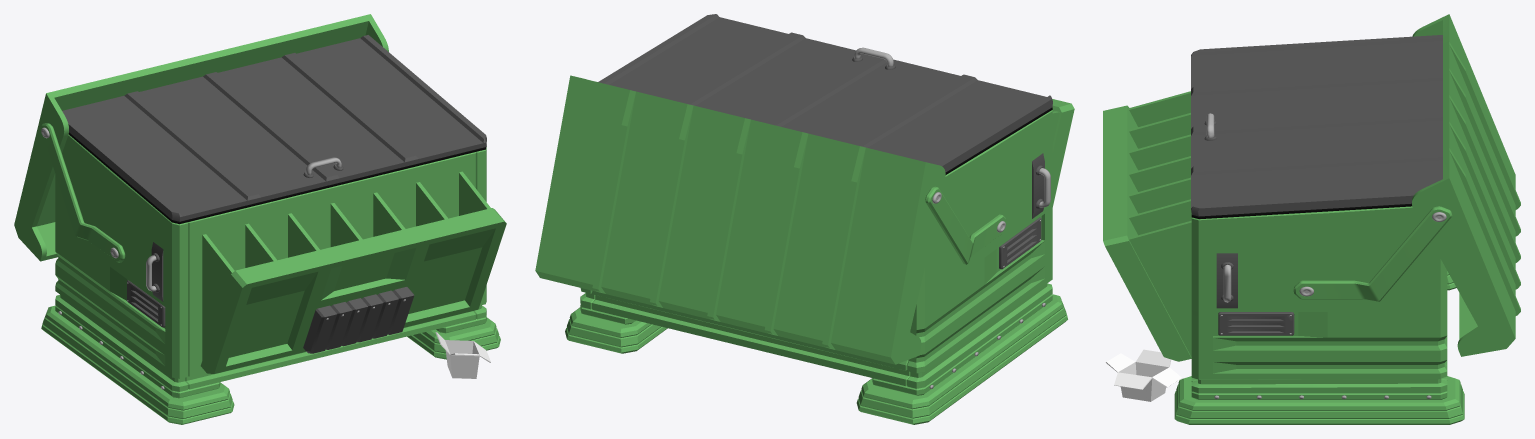
Rendered from shop 4.fbx.
The picture shows the model from 3 angles, left to right: view 1: azimuth 30°, elevation 25°; view 2: azimuth 150°, elevation 25°; view 3: azimuth 270°, elevation 25°; orthographic projection. The views are drawn at different scales.
Parts seen in each view (by area): view 1: Desirefx.me_CyberProp_Dumpster_PaintGreen, Desirefx.me_CyberProp_Dumpster_PaintBlack.002, Desirefx.me_CyberProp_Dumpster_PaintBlack, Desirefx.me_CyberProp_Dumpster_PaperWhite, Desirefx.me_CyberProp_Dumpster_Rubber, Desirefx.me_CyberProp_Dumpster_SteelRaw; view 2: Desirefx.me_CyberProp_Dumpster_PaintGreen, Desirefx.me_CyberProp_Dumpster_PaintBlack.002, Desirefx.me_CyberProp_Dumpster_PaintBlack, Desirefx.me_CyberProp_Dumpster_SteelRaw; view 3: Desirefx.me_CyberProp_Dumpster_PaintGreen, Desirefx.me_CyberProp_Dumpster_PaintBlack.002, Desirefx.me_CyberProp_Dumpster_PaintBlack, Desirefx.me_CyberProp_Dumpster_PaperWhite, Desirefx.me_CyberProp_Dumpster_Rubber, Desirefx.me_CyberProp_Dumpster_SteelRaw.
Boxes of the visible parts, <box> form: Desirefx.me_CyberProp_Dumpster_PaintGreen: <box>14,14,506,424</box>; Desirefx.me_CyberProp_Dumpster_PaintBlack.002: <box>62,35,486,221</box>; Desirefx.me_CyberProp_Dumpster_PaintBlack: <box>127,242,414,353</box>; Desirefx.me_CyberProp_Dumpster_PaperWhite: <box>435,332,490,378</box>; Desirefx.me_CyberProp_Dumpster_Rubber: <box>68,132,486,224</box>; Desirefx.me_CyberProp_Dumpster_SteelRaw: <box>41,127,405,389</box>; Desirefx.me_CyberProp_Dumpster_PaintGreen: <box>535,75,1074,424</box>; Desirefx.me_CyberProp_Dumpster_PaintBlack.002: <box>598,14,1052,172</box>; Desirefx.me_CyberProp_Dumpster_PaintBlack: <box>999,153,1044,269</box>; Desirefx.me_CyberProp_Dumpster_SteelRaw: <box>929,168,1050,388</box>; Desirefx.me_CyberProp_Dumpster_PaintGreen: <box>1103,14,1520,424</box>; Desirefx.me_CyberProp_Dumpster_PaintBlack.002: <box>1191,35,1442,216</box>; Desirefx.me_CyberProp_Dumpster_PaintBlack: <box>1216,253,1294,335</box>; Desirefx.me_CyberProp_Dumpster_PaperWhite: <box>1106,349,1181,401</box>; Desirefx.me_CyberProp_Dumpster_Rubber: <box>1191,203,1411,219</box>; Desirefx.me_CyberProp_Dumpster_SteelRaw: <box>1214,212,1446,399</box>.
Bounding box in the file's own units: 12.28 × 8.21 × 12.67.
